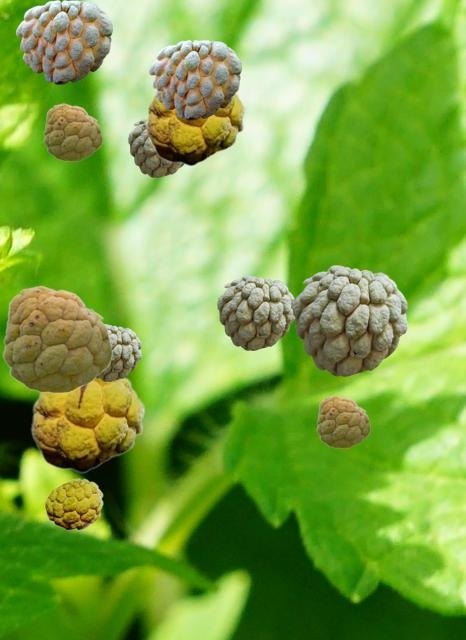atis: (292, 265, 406, 375), (2, 285, 111, 392), (30, 377, 144, 472), (16, 0, 111, 83), (145, 92, 245, 165), (149, 40, 240, 119), (217, 275, 294, 349), (43, 103, 101, 160), (128, 118, 183, 176), (44, 478, 102, 529), (316, 395, 369, 447), (96, 324, 140, 380)
